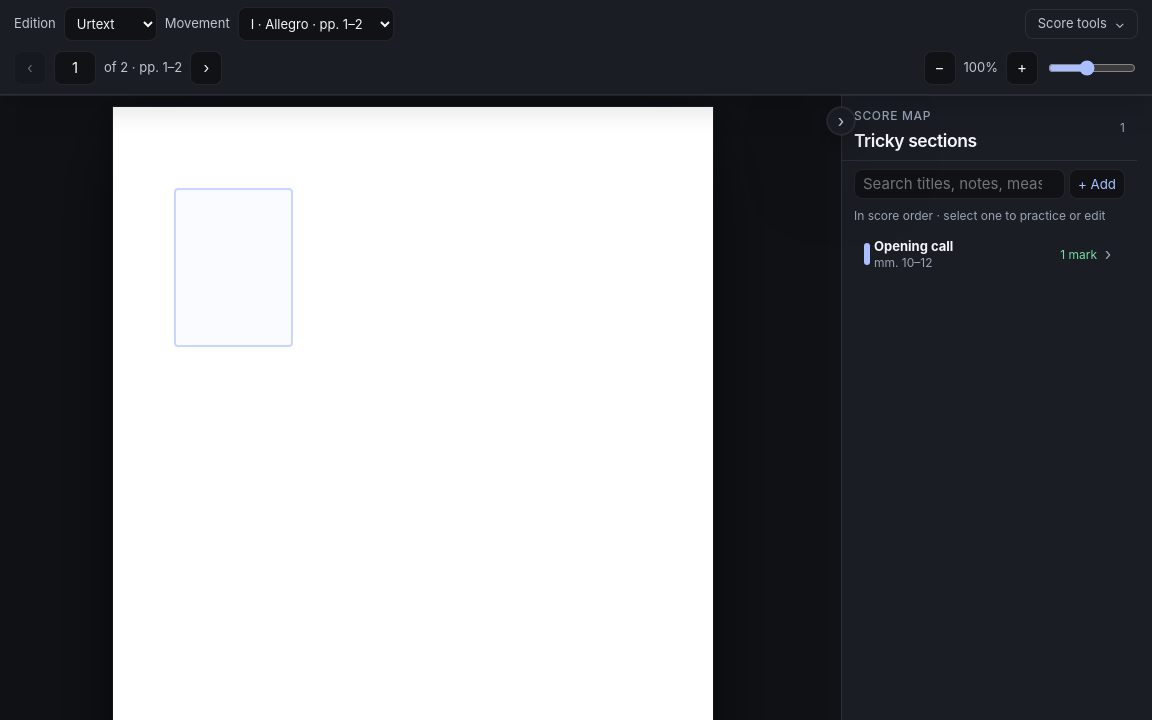
Test: ScoreView › scopes PDF browsing and anchored sections to the selected movement
Expected: the text "Opening call" is shown, [874,238,953,254]
Expected: the text "Largo cadence" is not shown
Select "II · Largo · pp. 3–5" in the dropdown named "Score movement" at (316, 24), box [238,7,394,41]
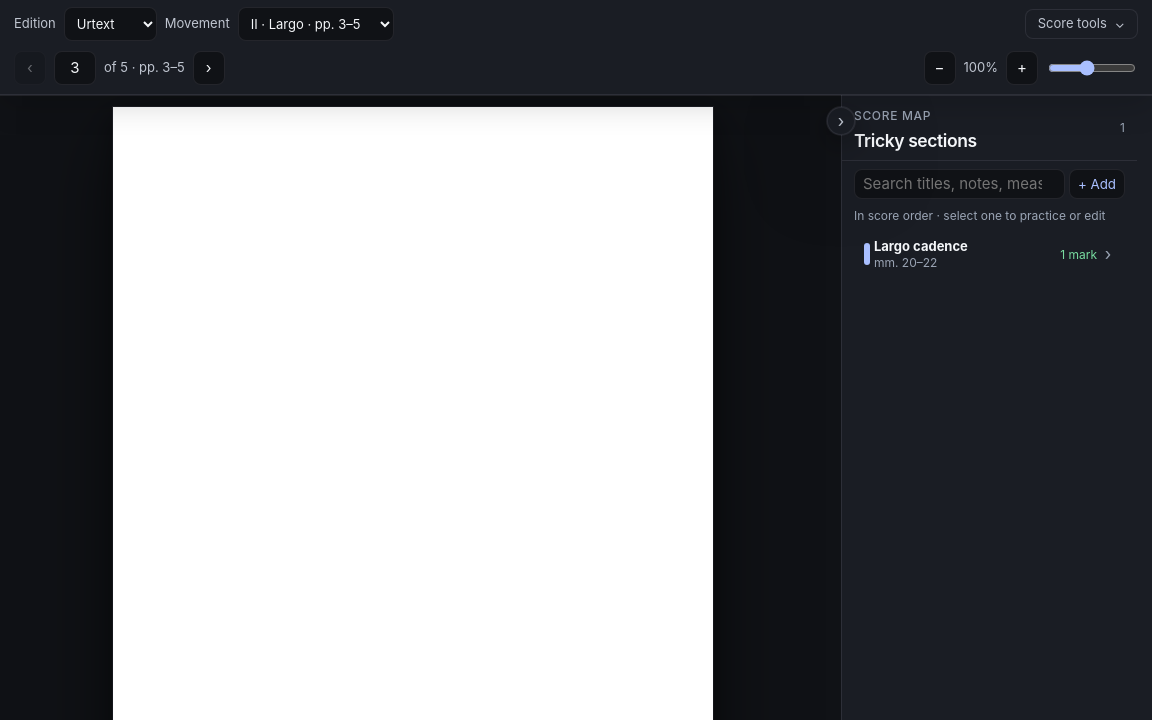
Expected: the field named "Page number" holds "3", [54,51,96,85]
Expected: the text "Largo cadence" is shown, [874,238,968,254]
Expected: the button "Opening call" is gone
Select "Whole score" in the dropdown named "Score movement" at (316, 24), box [238,7,394,41]
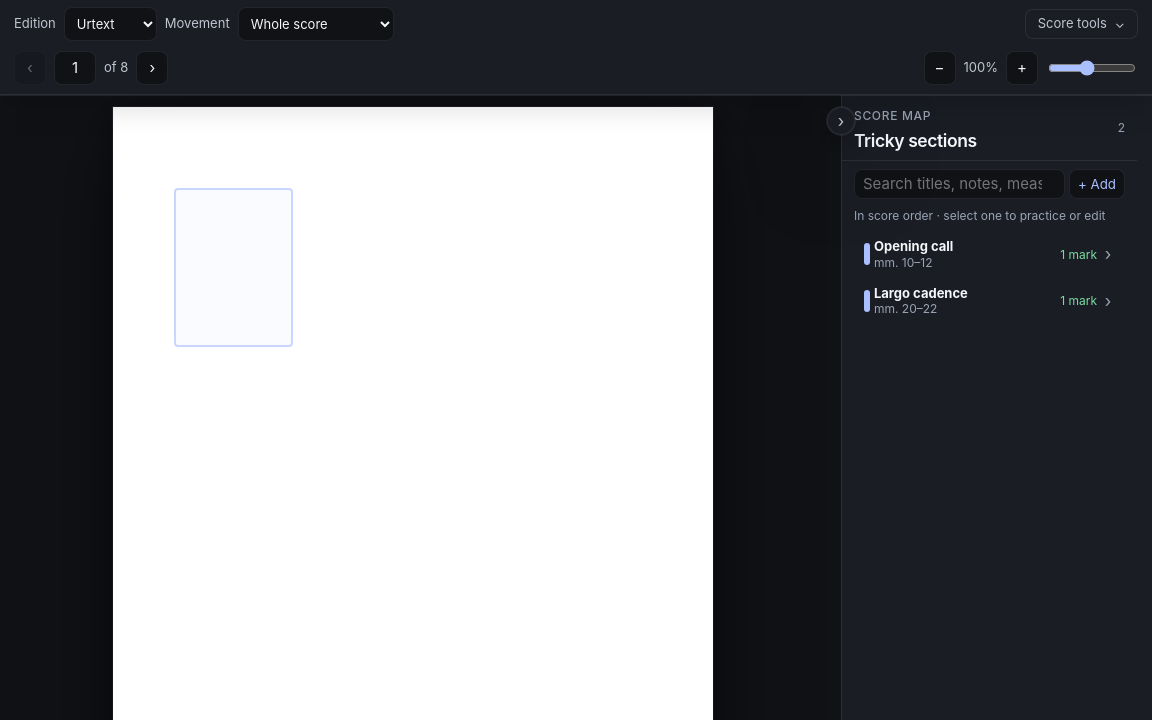
Expected: the text "Largo cadence" is shown, [874,285,968,301]
Expected: the text "Opening call" is shown, [874,238,953,254]
Expected: the text "of 8" is shown, [104,58,128,78]
